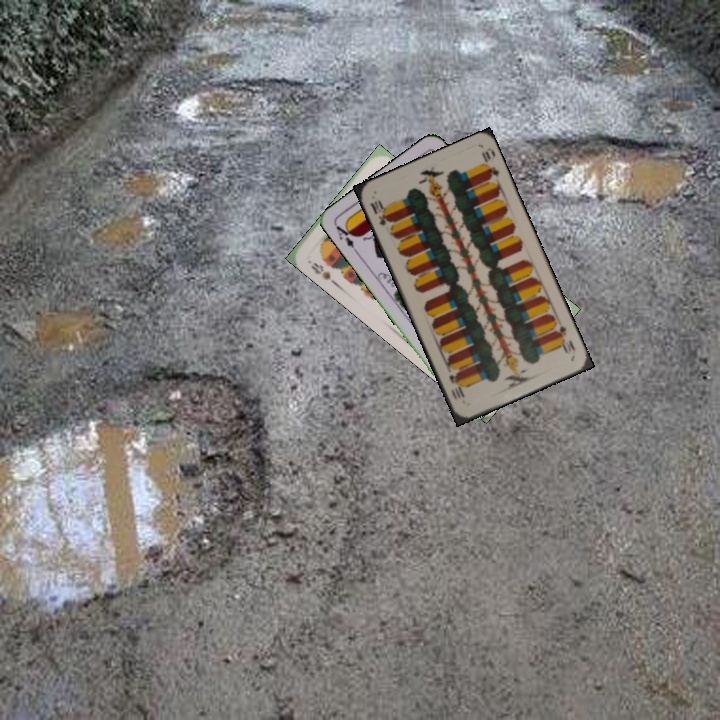E10: (552, 321, 578, 357), (366, 196, 394, 228)
EA: (331, 220, 360, 256)
S8: (307, 258, 337, 286)
